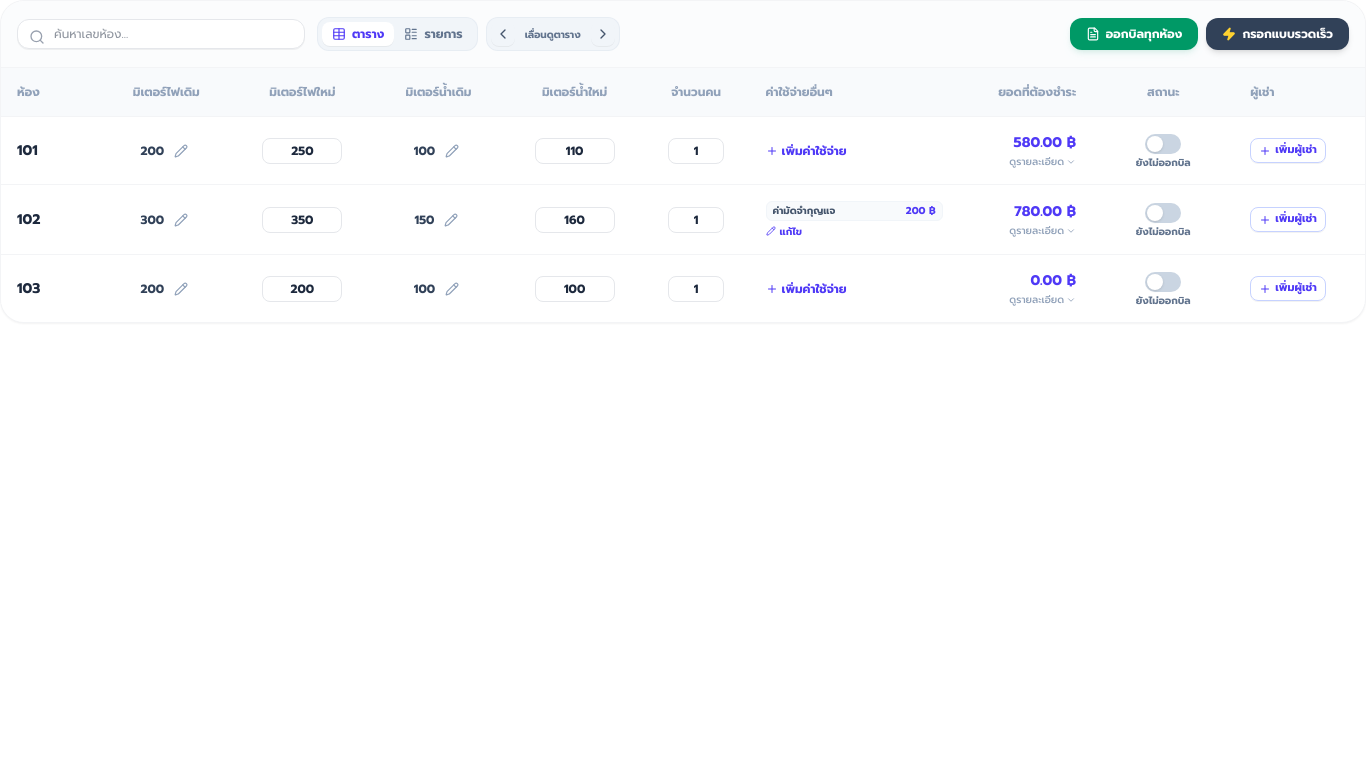
HORPLUS LOCAL-07 — Shared Other Fees Modal UX/UI Suite (Batch C) › C1. Table mode: clicking "เพิ่มค่าใช้จ่าย" opens modal and saving updates table and marks dirty
Note: Open modal from table
Click the button with test id "open-table-other-fees-r1" at coordinates (854, 151), box [766,143,943,159]
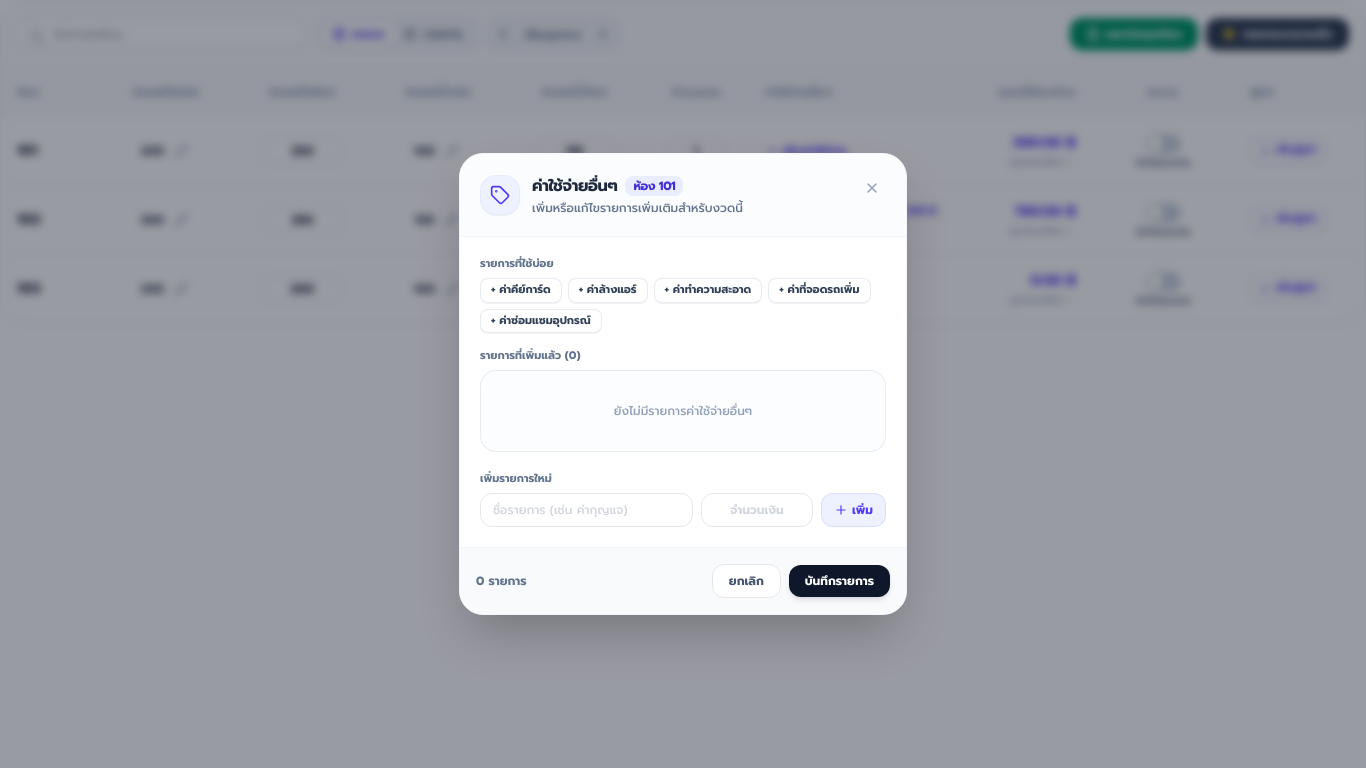
Expected: the dialog with test id "meter-other-fees-modal-backdrop" is shown
Type "ค่าคีย์การ์ด" into the field with placeholder "ชื่อรายการ (เช่น ค่ากุญแจ)" at coordinates (586, 510), box [480,493,693,527]
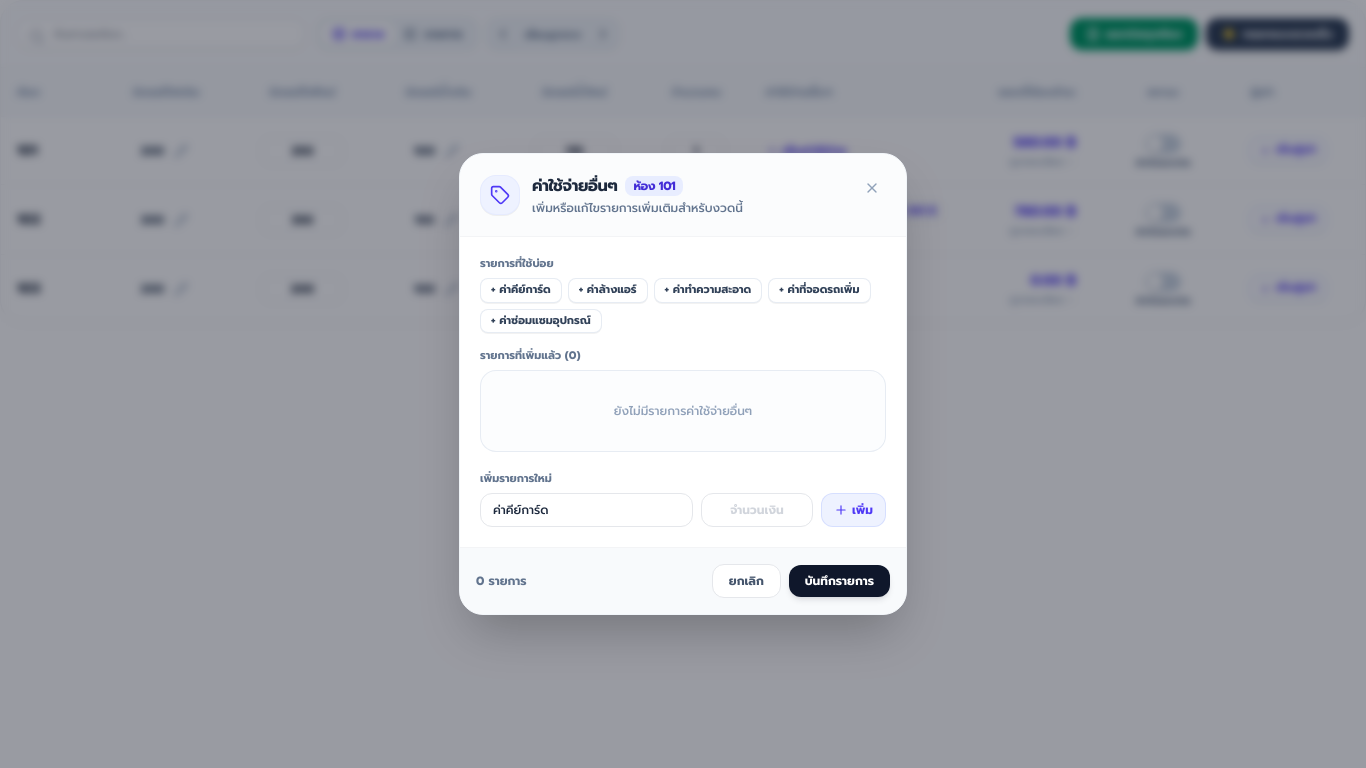
Type "150" into the field with placeholder "จำนวนเงิน" at coordinates (757, 510), box [701,493,813,527]
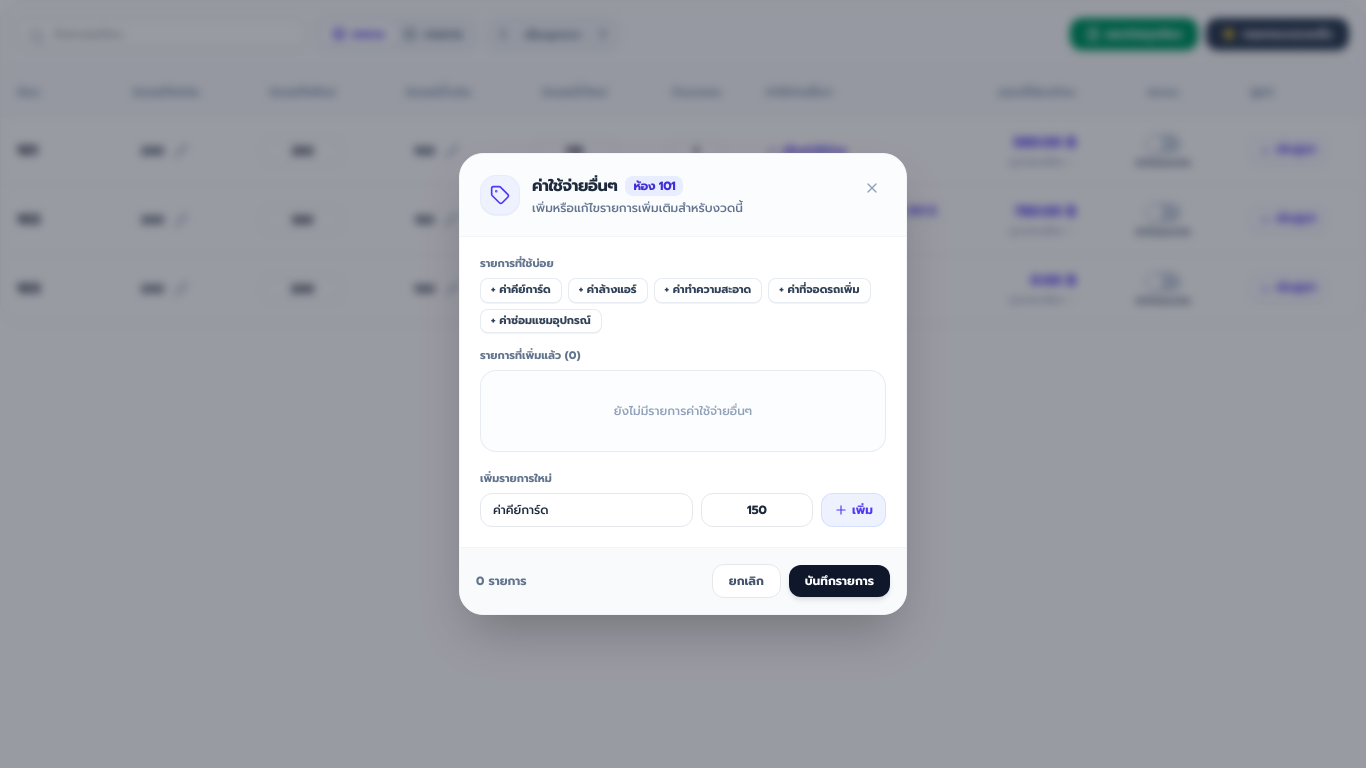
Click the button titled "เพิ่มรายการ" at coordinates (854, 510), box [821,493,886,527]
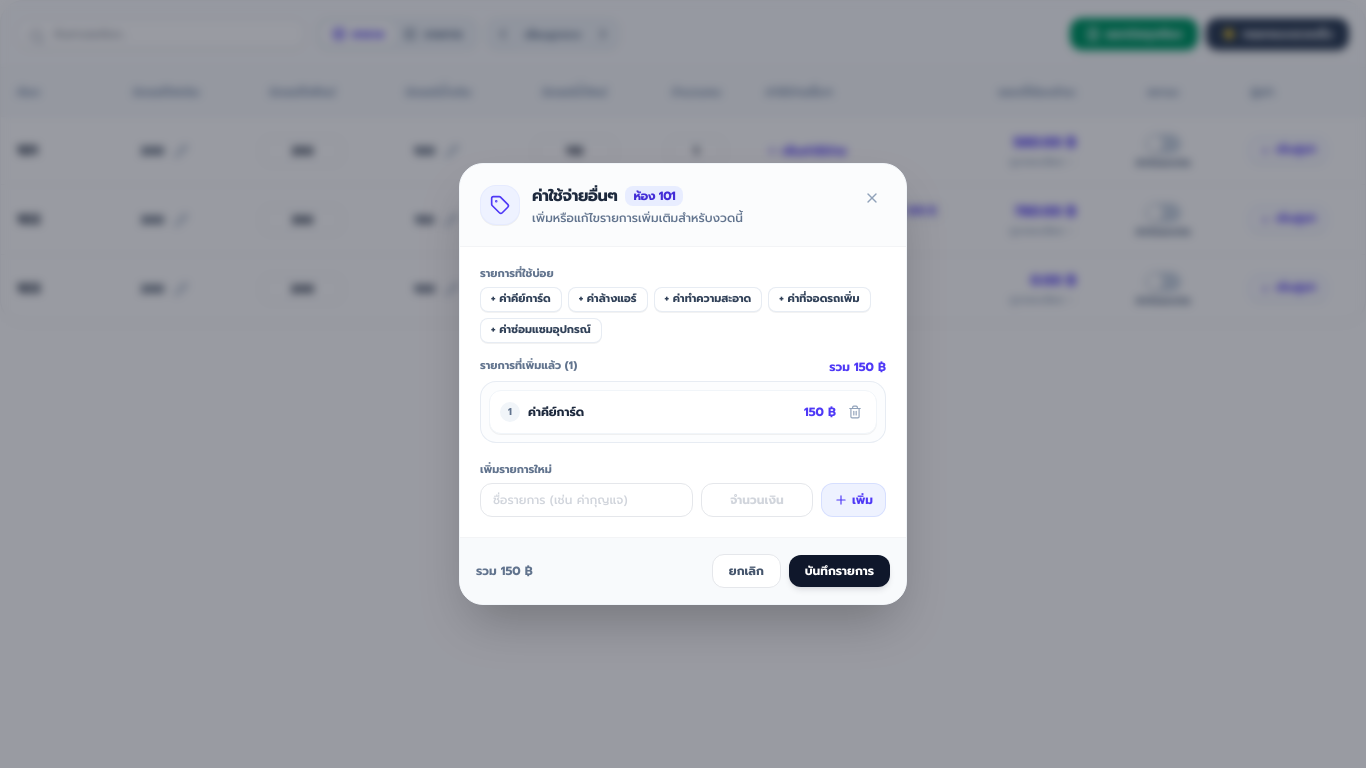
Click the button "บันทึกรายการ" at coordinates (839, 571), box [789,555,890,587]
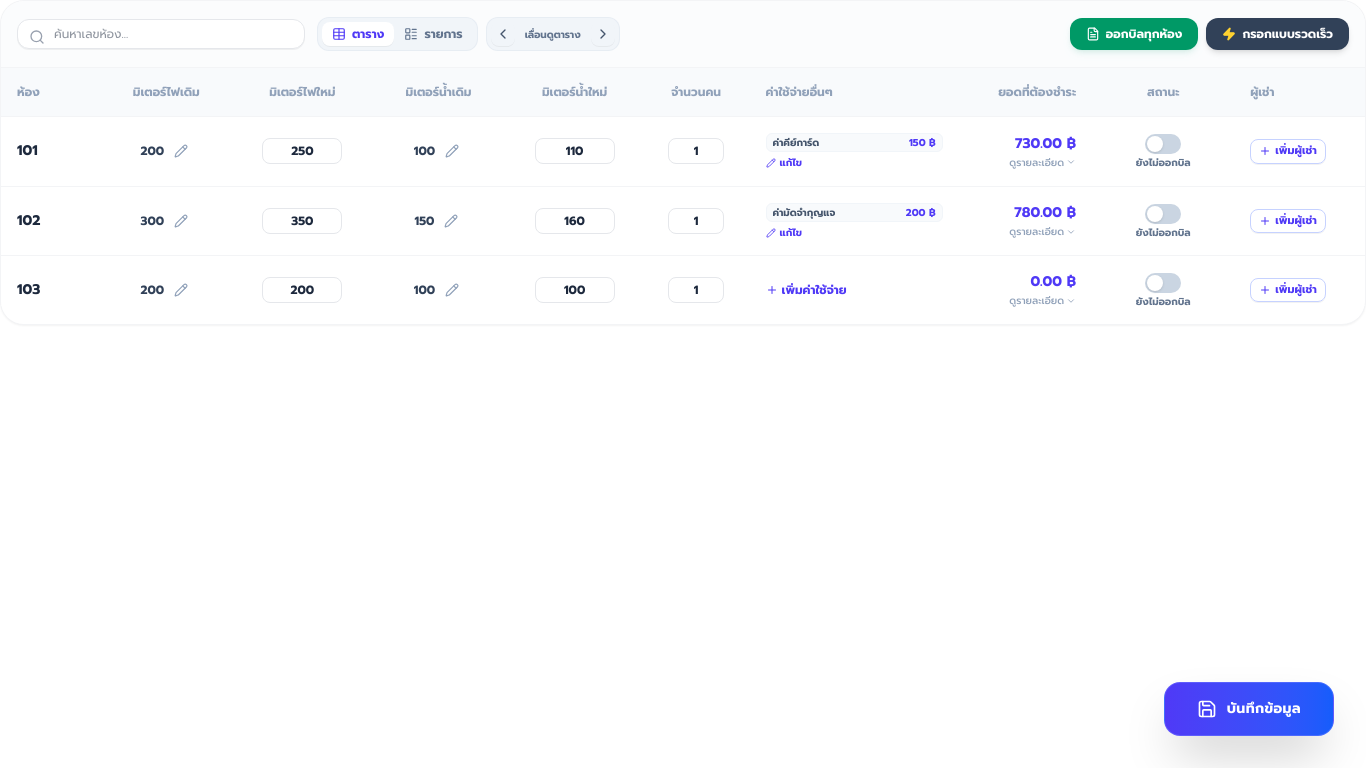
Expected: the text "ค่าคีย์การ์ด" is shown, [773,136,819,149]
Expected: the text "150 ฿" is shown, [909,136,936,149]
Expected: the dialog with test id "meter-other-fees-modal-backdrop" is gone
